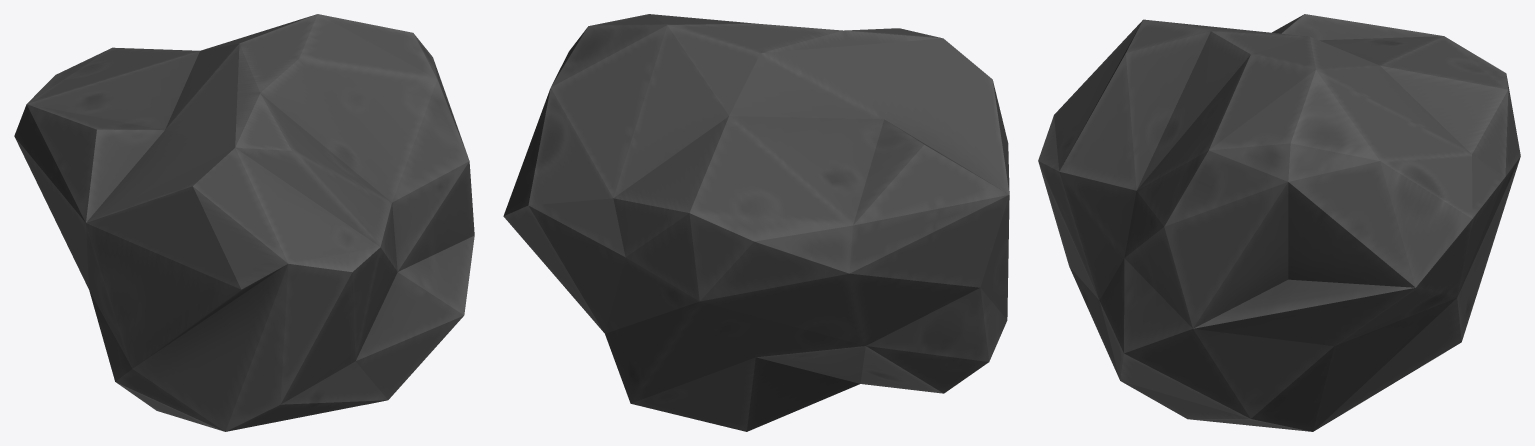
Rendered from asteroid2.glb.
The picture shows the model from 3 angles, left to right: view 1: azimuth 30°, elevation 25°; view 2: azimuth 150°, elevation 25°; view 3: azimuth 270°, elevation 25°; orthographic projection. The views are drawn at different scales.
Visible parts, largest first — view 1: Asteroids_Mesh.002; view 2: Asteroids_Mesh.002; view 3: Asteroids_Mesh.002.
Part boxes in pixels (x1,y1,x2,y2): Asteroids_Mesh.002: (14,14,474,431); Asteroids_Mesh.002: (503,14,1009,431); Asteroids_Mesh.002: (1038,14,1520,431).
Bounding box in the file's own units: 1.74 × 1.56 × 1.89.
1 material, 1 textured.
